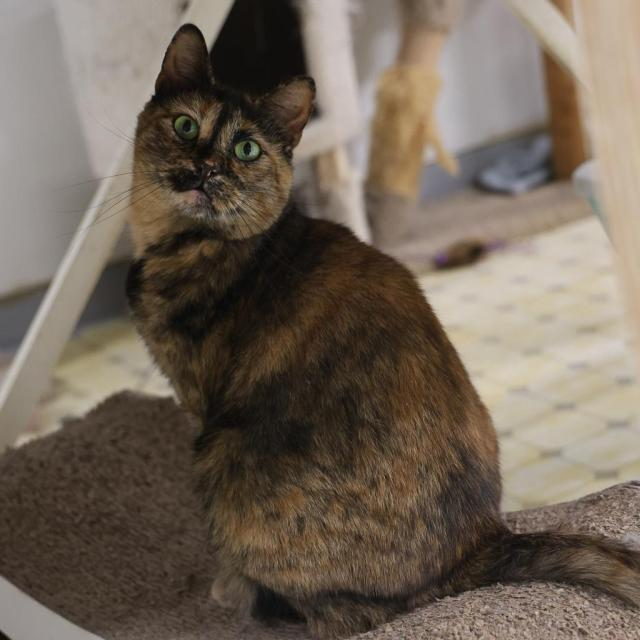domestic_short_hair_cat: (108, 11, 334, 296)
